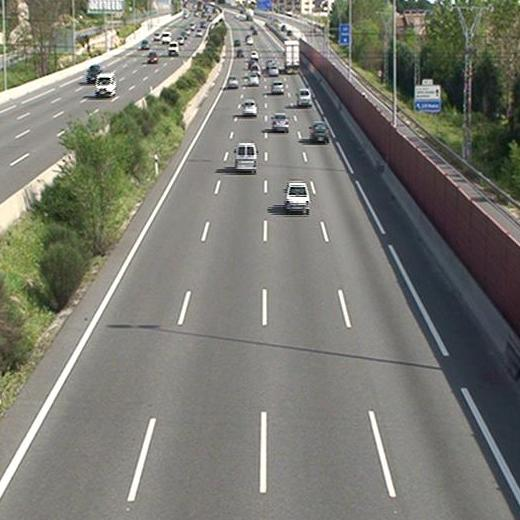car: (285, 182, 310, 211), (311, 122, 329, 143), (271, 114, 289, 132), (242, 100, 257, 116), (297, 90, 311, 106), (226, 77, 238, 90), (247, 74, 259, 87), (271, 83, 284, 94), (268, 64, 279, 77)
truck: (283, 40, 300, 74)
van: (234, 142, 257, 171)
